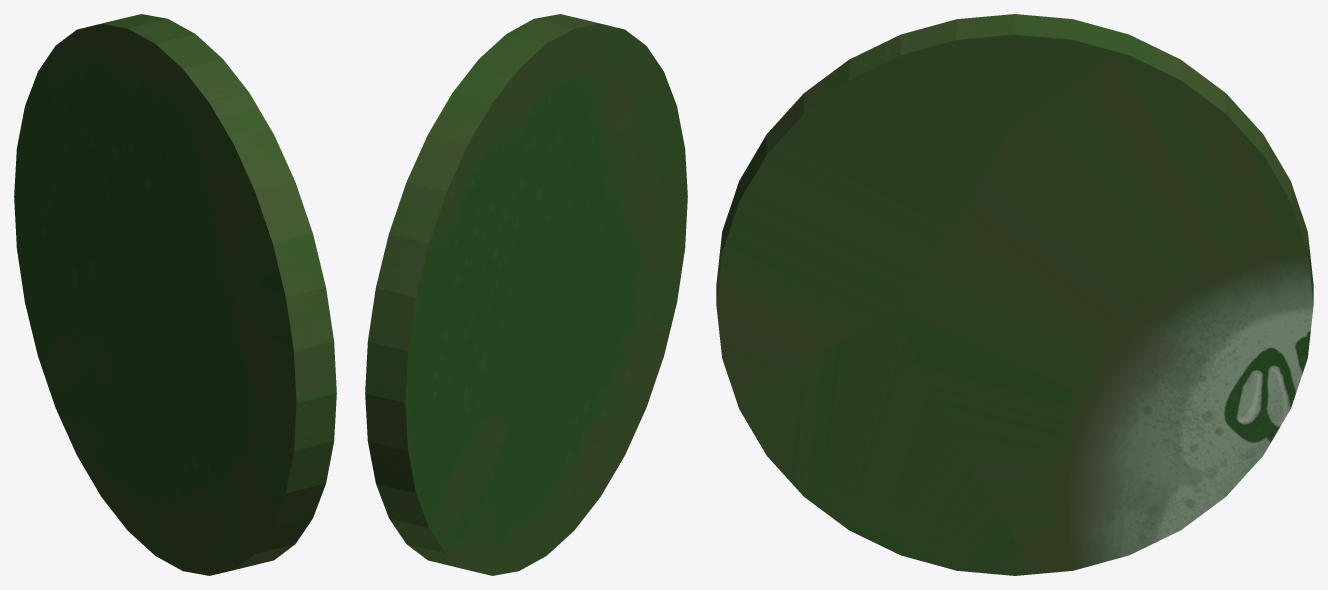
The model's file is onion.fbx.
3 renders of one model, left to right at view 1: azimuth 30°, elevation 25°; view 2: azimuth 150°, elevation 25°; view 3: azimuth 270°, elevation 25°, orthographic. The views are drawn at different scales.
Parts seen in each view (by area): view 1: Cylinder.003; view 2: Cylinder.003; view 3: Cylinder.003.
Boxes of the visible parts, x1,y1,x2,y2 form: Cylinder.003: [14, 14, 336, 575]; Cylinder.003: [365, 14, 687, 575]; Cylinder.003: [716, 14, 1313, 575].
Bounding box in the file's own units: 0.7651 × 9.3 × 9.3.
